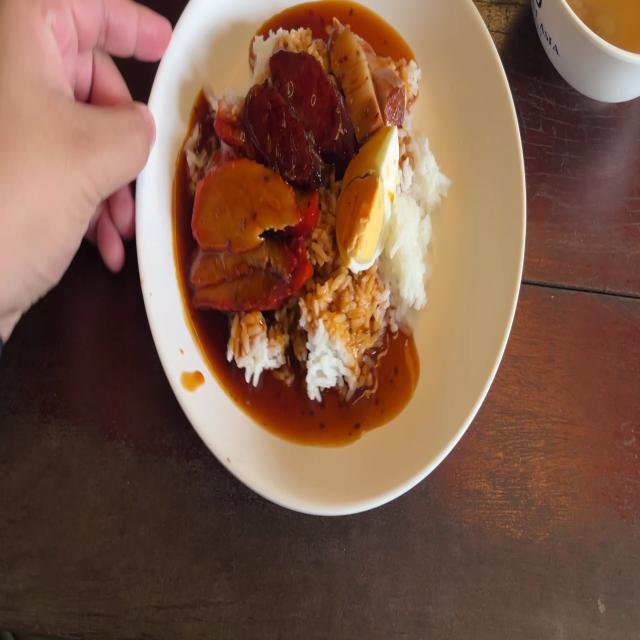red_pork_and_crispy_pork: (338, 126, 400, 272)
stir_fried_basil: (242, 50, 338, 175), (248, 78, 310, 180), (278, 50, 343, 138)
